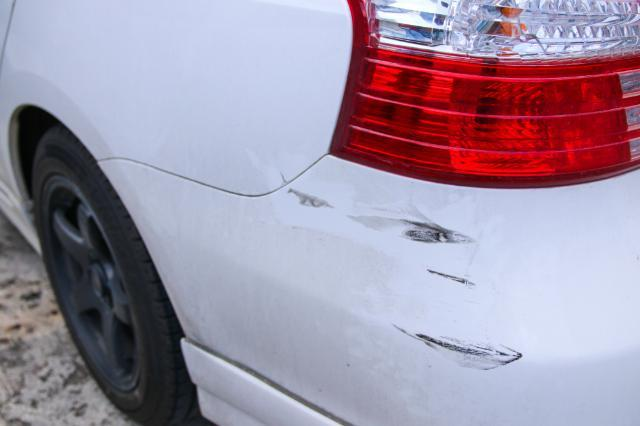scratch: (291, 188, 529, 380)
